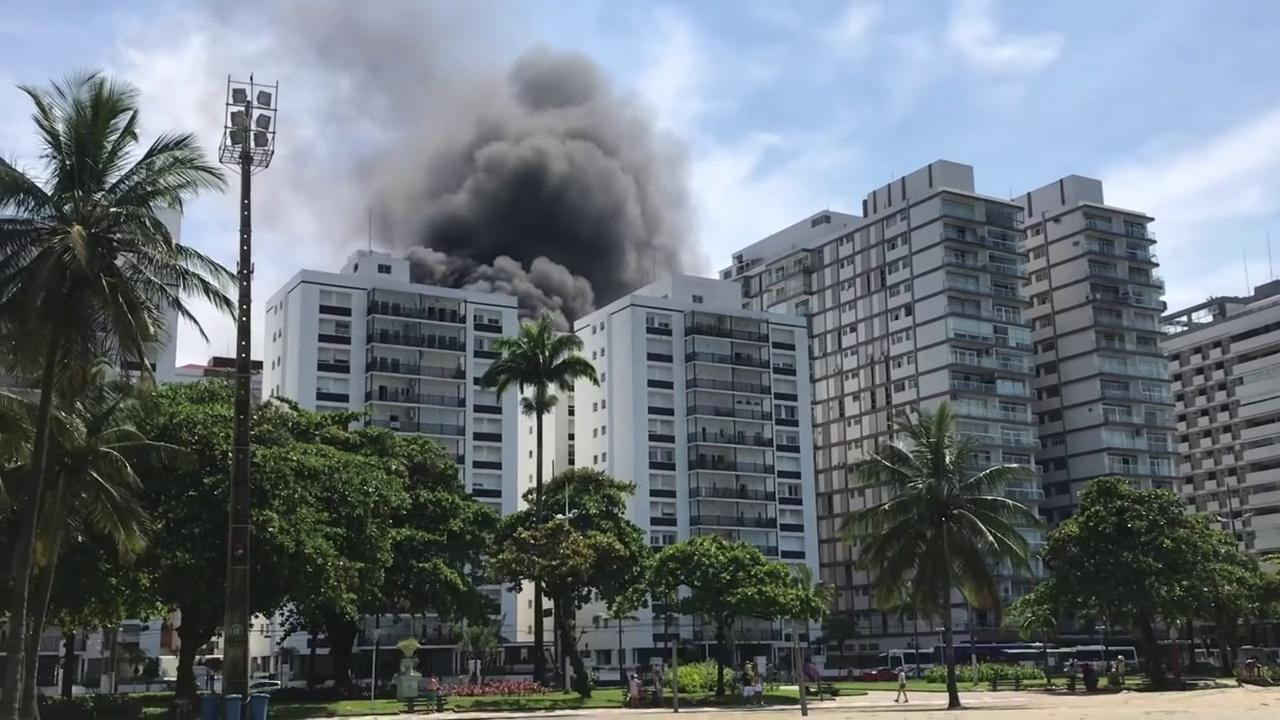smoke: (460, 128, 654, 276)
